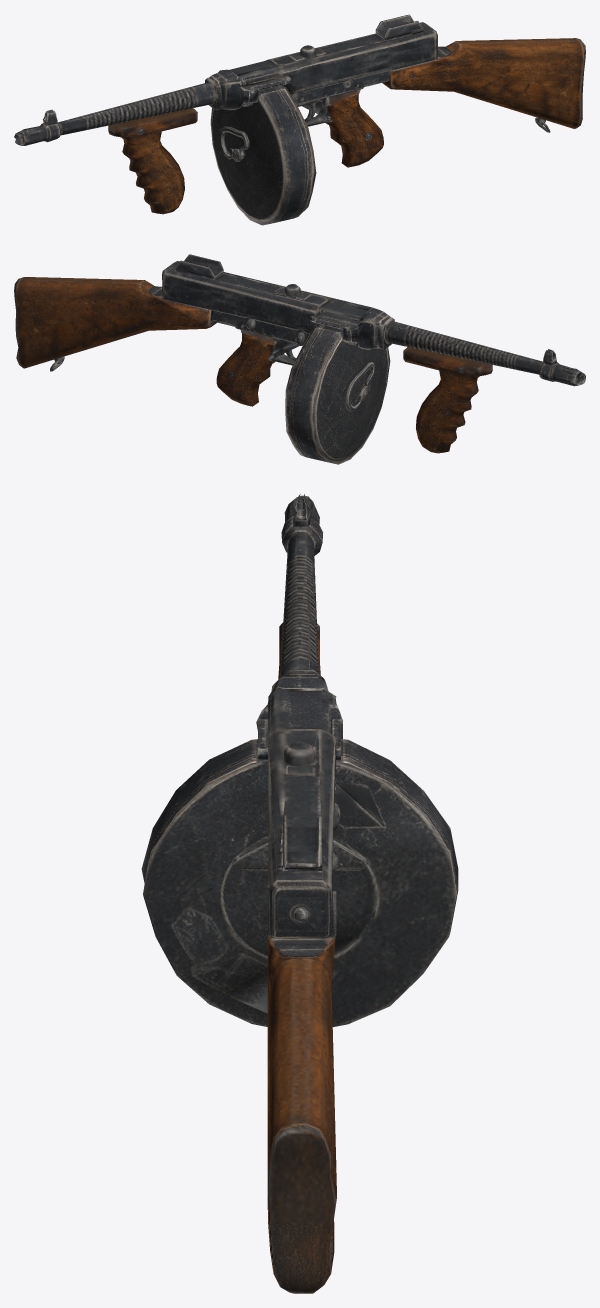
Rendered from Meshy_AI_model.fbx.
3 renders of one model, top to bottom at view 1: azimuth 30°, elevation 25°; view 2: azimuth 150°, elevation 25°; view 3: azimuth 270°, elevation 25°, orthographic. The views are drawn at different scales.
Visible parts, largest first — view 1: Mesh_0; view 2: Mesh_0; view 3: Mesh_0.
Part boxes in pixels (x1=…): Mesh_0: x1=14, y1=14, x2=585, y2=225; Mesh_0: x1=14, y1=254, x2=585, y2=464; Mesh_0: x1=141, y1=494, x2=458, y2=1293.
Bounding box in the file's own units: 95.95 × 26.37 × 23.34.
1 material, 1 textured.
